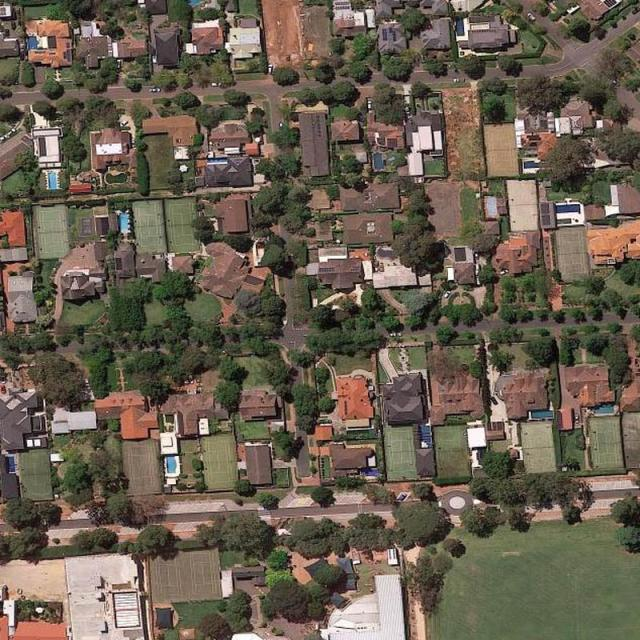vehicle: (390, 332, 402, 338), (443, 290, 451, 298), (526, 12, 535, 19), (7, 129, 16, 136), (499, 269, 509, 274), (130, 136, 135, 146), (121, 119, 128, 126), (211, 82, 222, 86), (454, 79, 465, 83), (400, 494, 406, 501), (150, 88, 160, 92), (268, 65, 273, 73), (1, 136, 7, 142), (574, 414, 578, 422), (475, 252, 479, 259), (368, 101, 371, 108)
